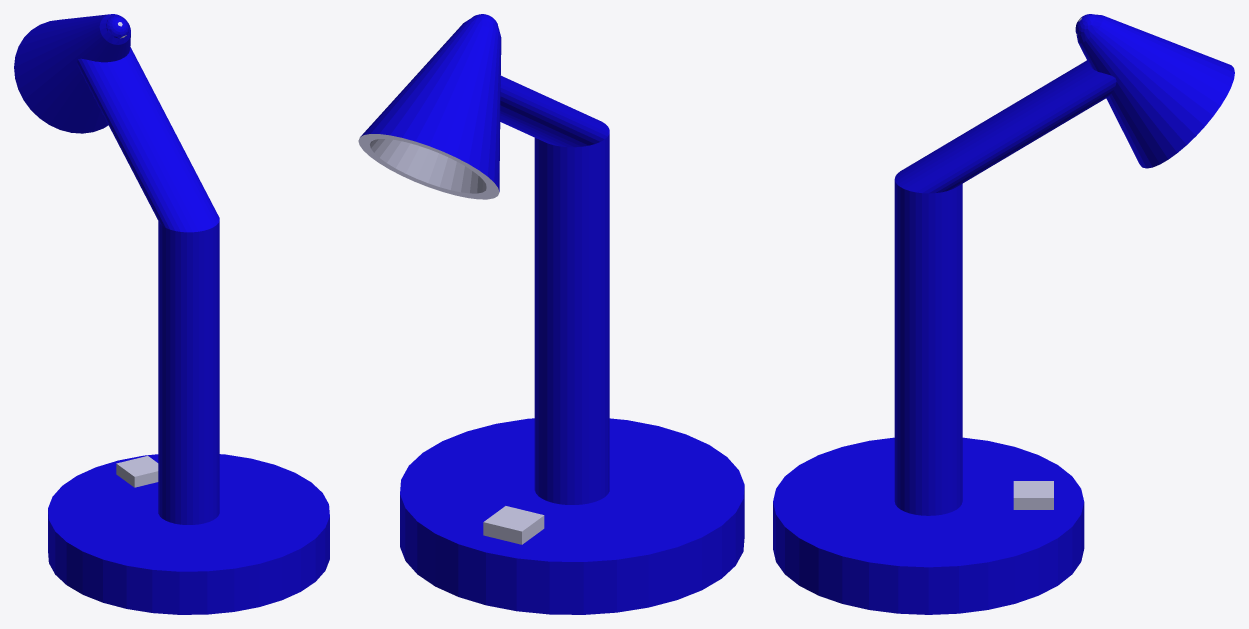
The model's file is TischLampe_neu.glb.
3 renders of one model, left to right at view 1: azimuth 30°, elevation 25°; view 2: azimuth 150°, elevation 25°; view 3: azimuth 270°, elevation 25°, orthographic. The views are drawn at different scales.
Parts seen in each view (by area): view 1: Button; view 2: Button; view 3: Button.
Boxes of the visible parts, <box> form: Button: <box>14,14,329,614</box>; Button: <box>358,14,744,614</box>; Button: <box>773,14,1234,614</box>.
Size of the model in its own units: 5.92 by 11.2 by 8.79.
